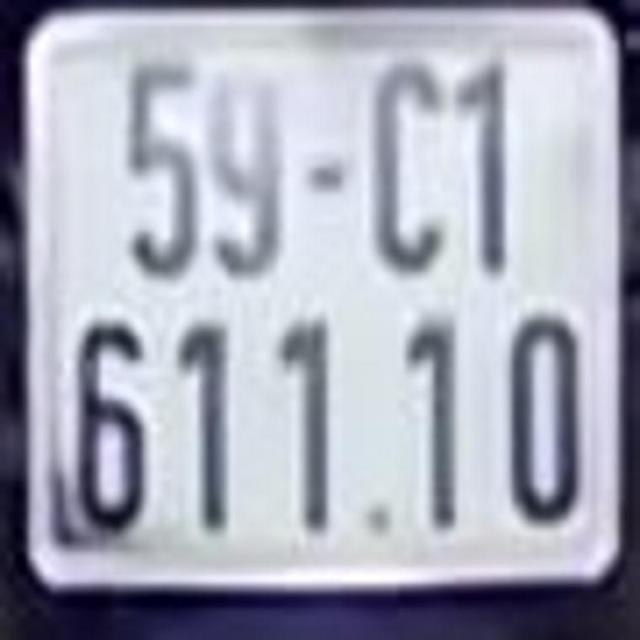0: (503, 314, 588, 521)
1: (453, 56, 515, 270), (403, 316, 458, 538), (281, 312, 331, 527), (181, 318, 230, 532)
5: (132, 60, 197, 278)
6: (74, 317, 147, 534)
9: (208, 60, 280, 276)
C: (371, 52, 437, 254)
